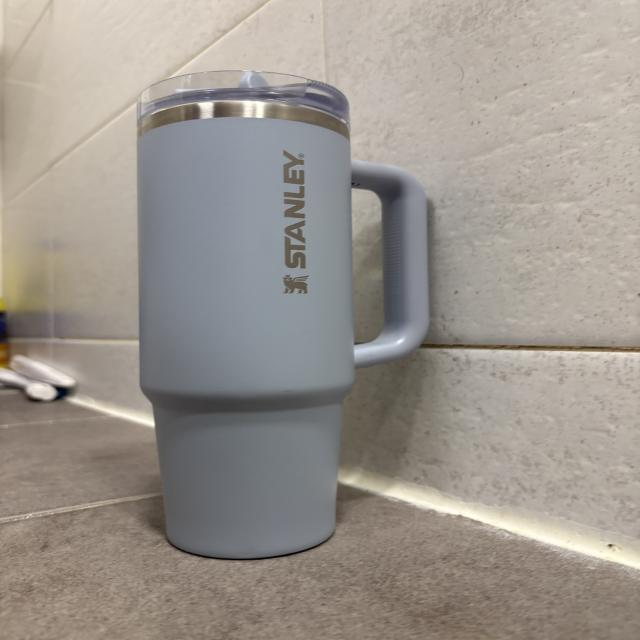waterbottle: (137, 68, 426, 559)
